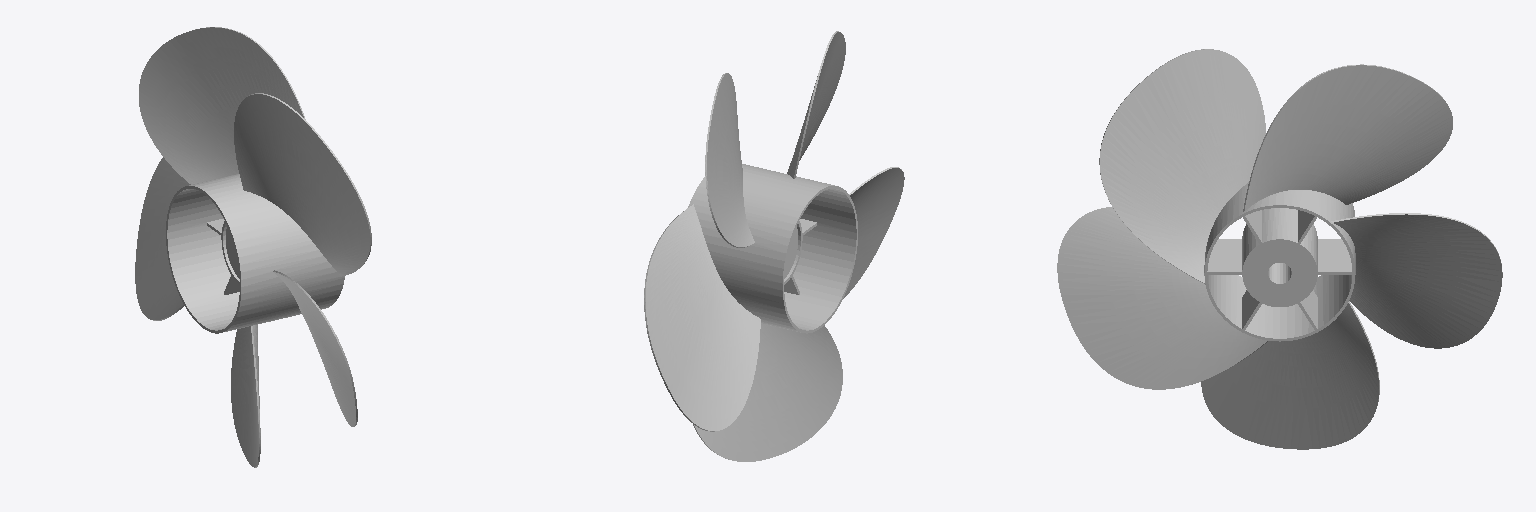
File: propeller.obj
3 views of the same model, side by side, from view 1: azimuth 30°, elevation 25°; view 2: azimuth 150°, elevation 25°; view 3: azimuth 270°, elevation 25° (orthographic).
Visible parts, largest first — view 1: Propeller; view 2: Propeller; view 3: Propeller.
Boxes of the visible parts, x1,y1,x2,y2 form: Propeller: [135, 27, 371, 467]; Propeller: [644, 31, 904, 461]; Propeller: [1057, 49, 1502, 449].
Bounding box in the file's own units: 4.04 × 14.37 × 14.73.